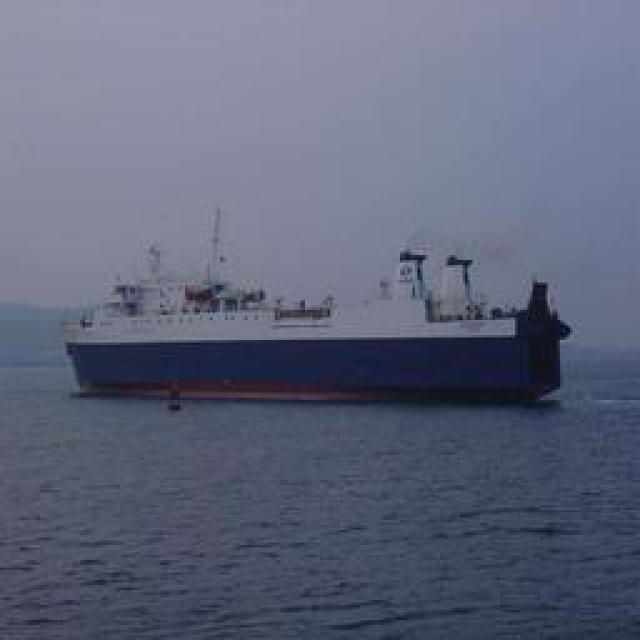Ship: (58, 222, 573, 400)
